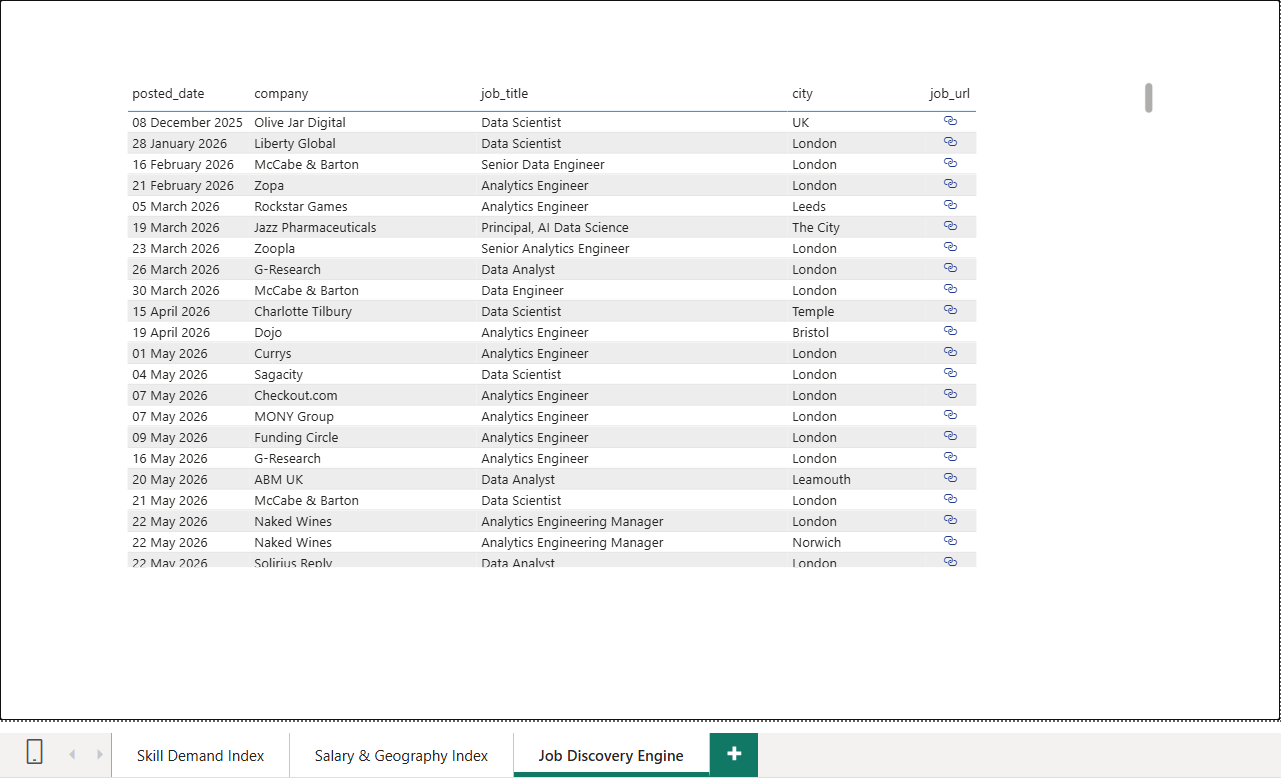

Layout of this report page (visuals, bound fields, positions):
{"tool":"powerbi","page":{"name":"Job Discovery Engine","canvas":[1280,720],"ordinal":2},"visuals":[{"type":"tableEx","fields":{"Values":["fct_job_market_insights.posted_date","fct_job_market_insights.company","fct_job_market_insights.job_title","fct_job_market_insights.city","fct_job_market_insights.job_url"]},"box":[121.4,77.1,1037.1,494.3],"z":0}]}

Visuals, with their boxes on the page's 1280x720 design canvas (x1, y1, x2, y2). These are canvas units, not pixel positions in the 1281x778 screenshot, which may show the page scaled, cropped or inside an application window:
tableEx - fct_job_market_insights.posted_date x fct_job_market_insights.company: box=[121, 77, 1158, 571]
